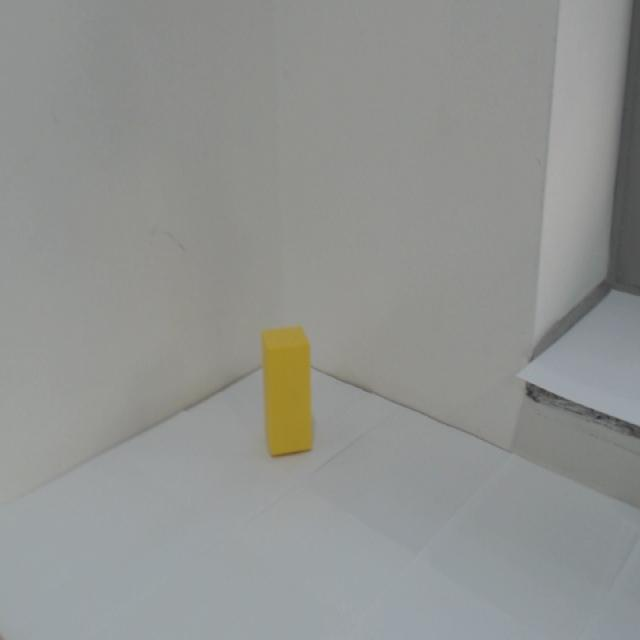cube: (261, 317, 322, 464)
